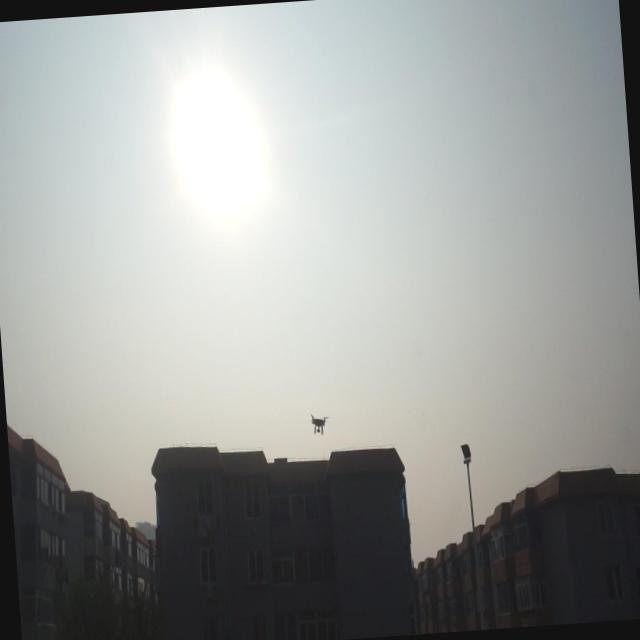drone: (307, 409, 331, 436)
